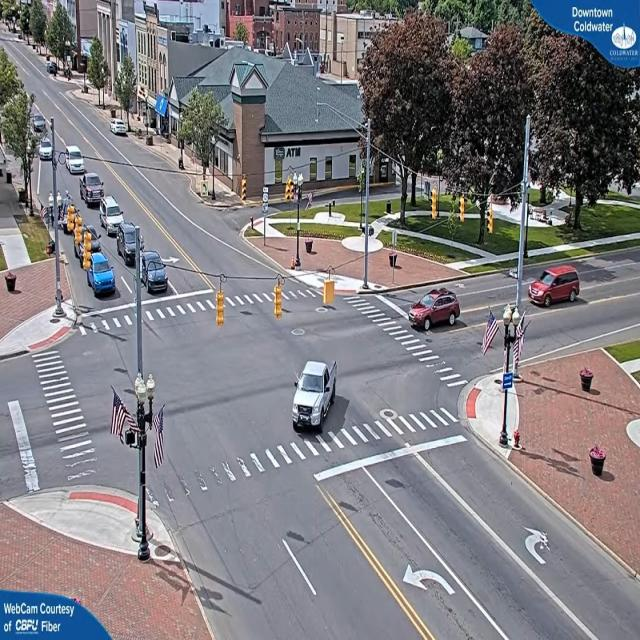car: (292, 362, 338, 434), (407, 289, 462, 333), (527, 269, 582, 310), (82, 245, 117, 298), (141, 250, 170, 292), (118, 224, 142, 262), (35, 122, 57, 160), (80, 174, 104, 208), (64, 147, 86, 176), (112, 120, 129, 136)
